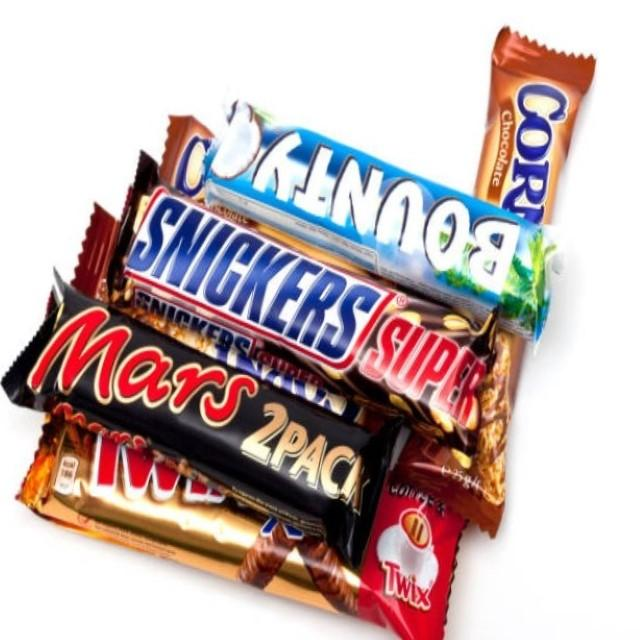mars_chocolate: (44, 302, 344, 502)
snickers_chocolate: (133, 187, 517, 415)
